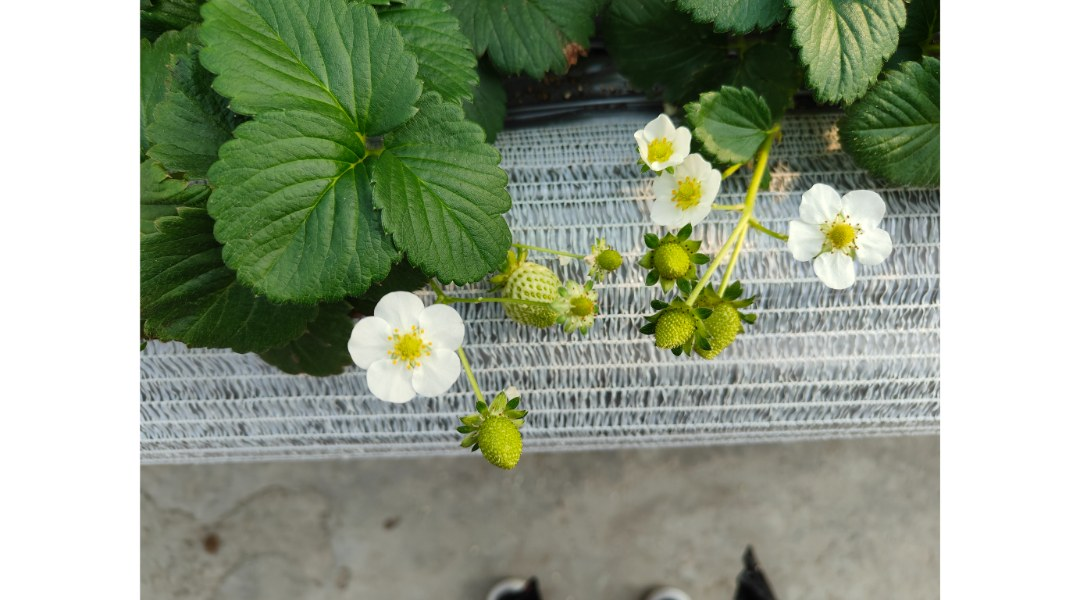berry: (492, 253, 572, 333), (460, 397, 534, 481), (703, 280, 758, 373), (636, 224, 700, 296), (641, 287, 690, 362), (558, 282, 598, 343), (585, 241, 628, 286)
flower: (776, 168, 908, 296), (343, 284, 474, 406), (647, 154, 721, 240), (636, 107, 705, 169)
strain: (459, 351, 491, 411), (720, 231, 748, 294), (750, 127, 761, 215)
